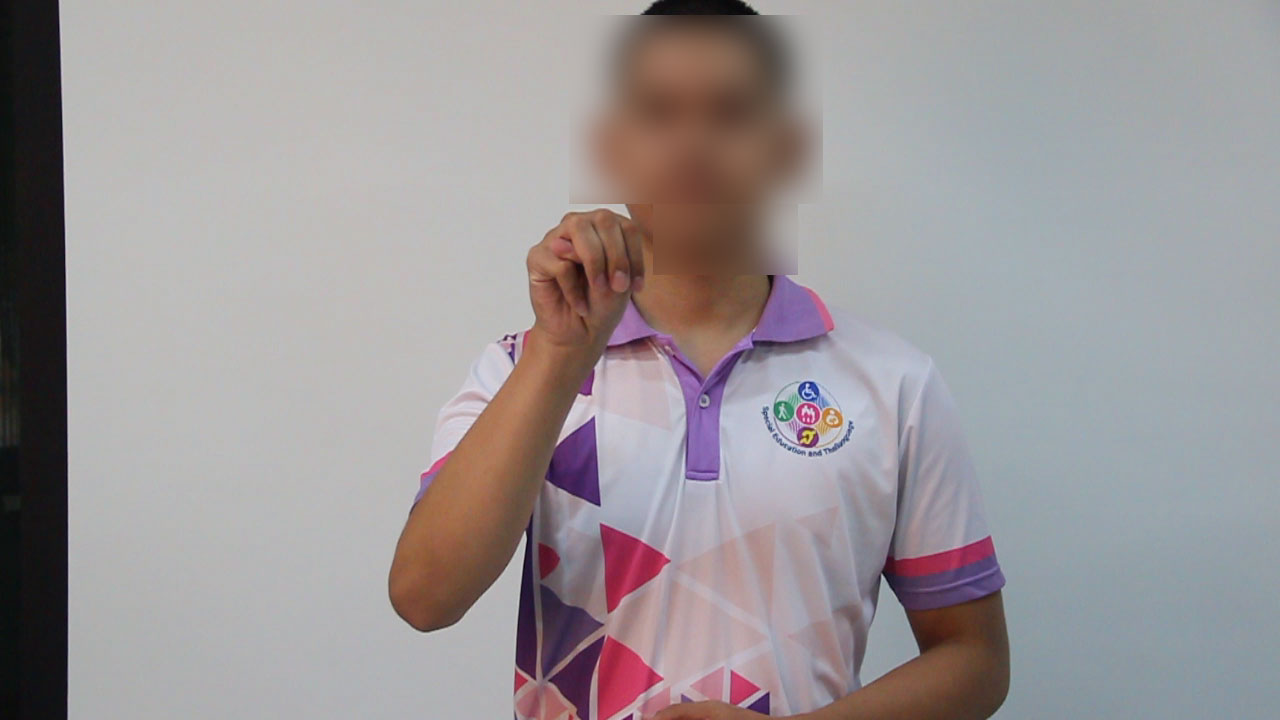mor: (515, 198, 652, 367)
